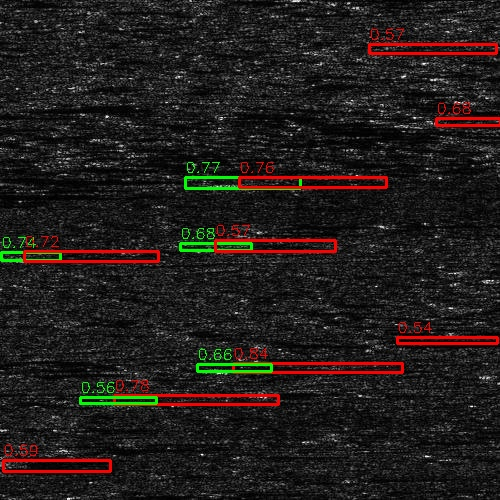rock: (0, 251, 77, 262), (226, 179, 289, 188), (454, 275, 500, 282), (0, 175, 24, 182), (205, 244, 246, 247), (0, 188, 7, 197)
shadow: (0, 188, 193, 197), (31, 251, 163, 262), (258, 179, 403, 188), (0, 175, 174, 182), (226, 244, 320, 247), (486, 275, 500, 282)
